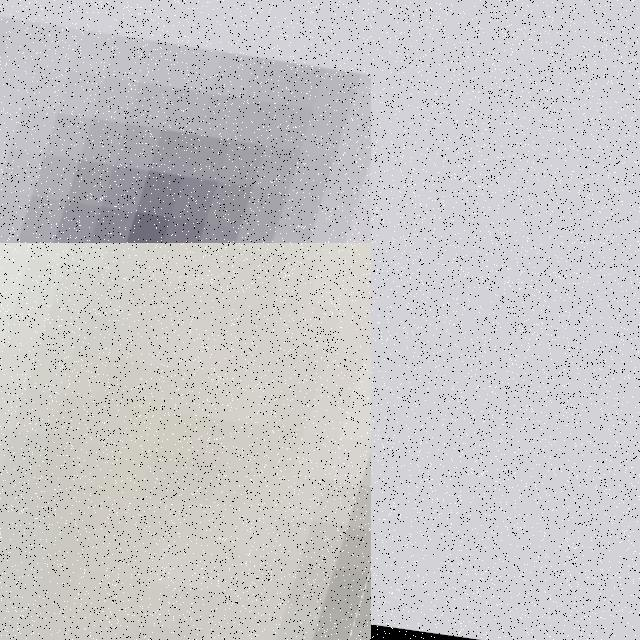drone: (0, 243, 371, 640), (0, 0, 371, 243)
